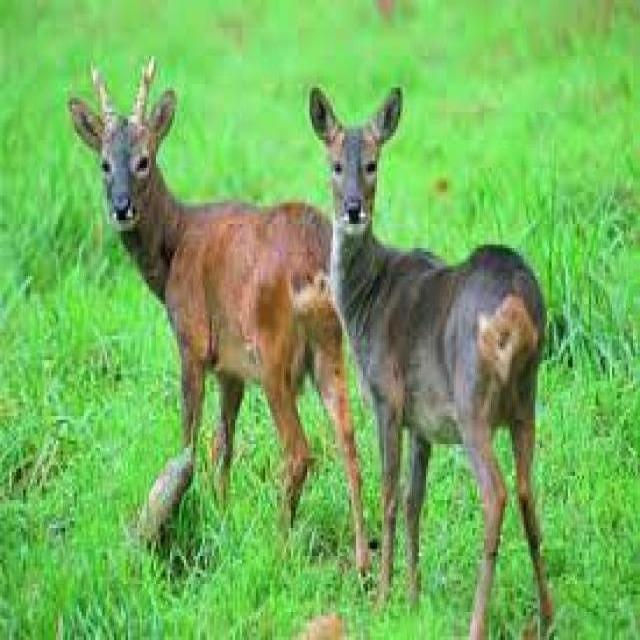deer: (299, 61, 607, 634), (81, 64, 341, 520)
